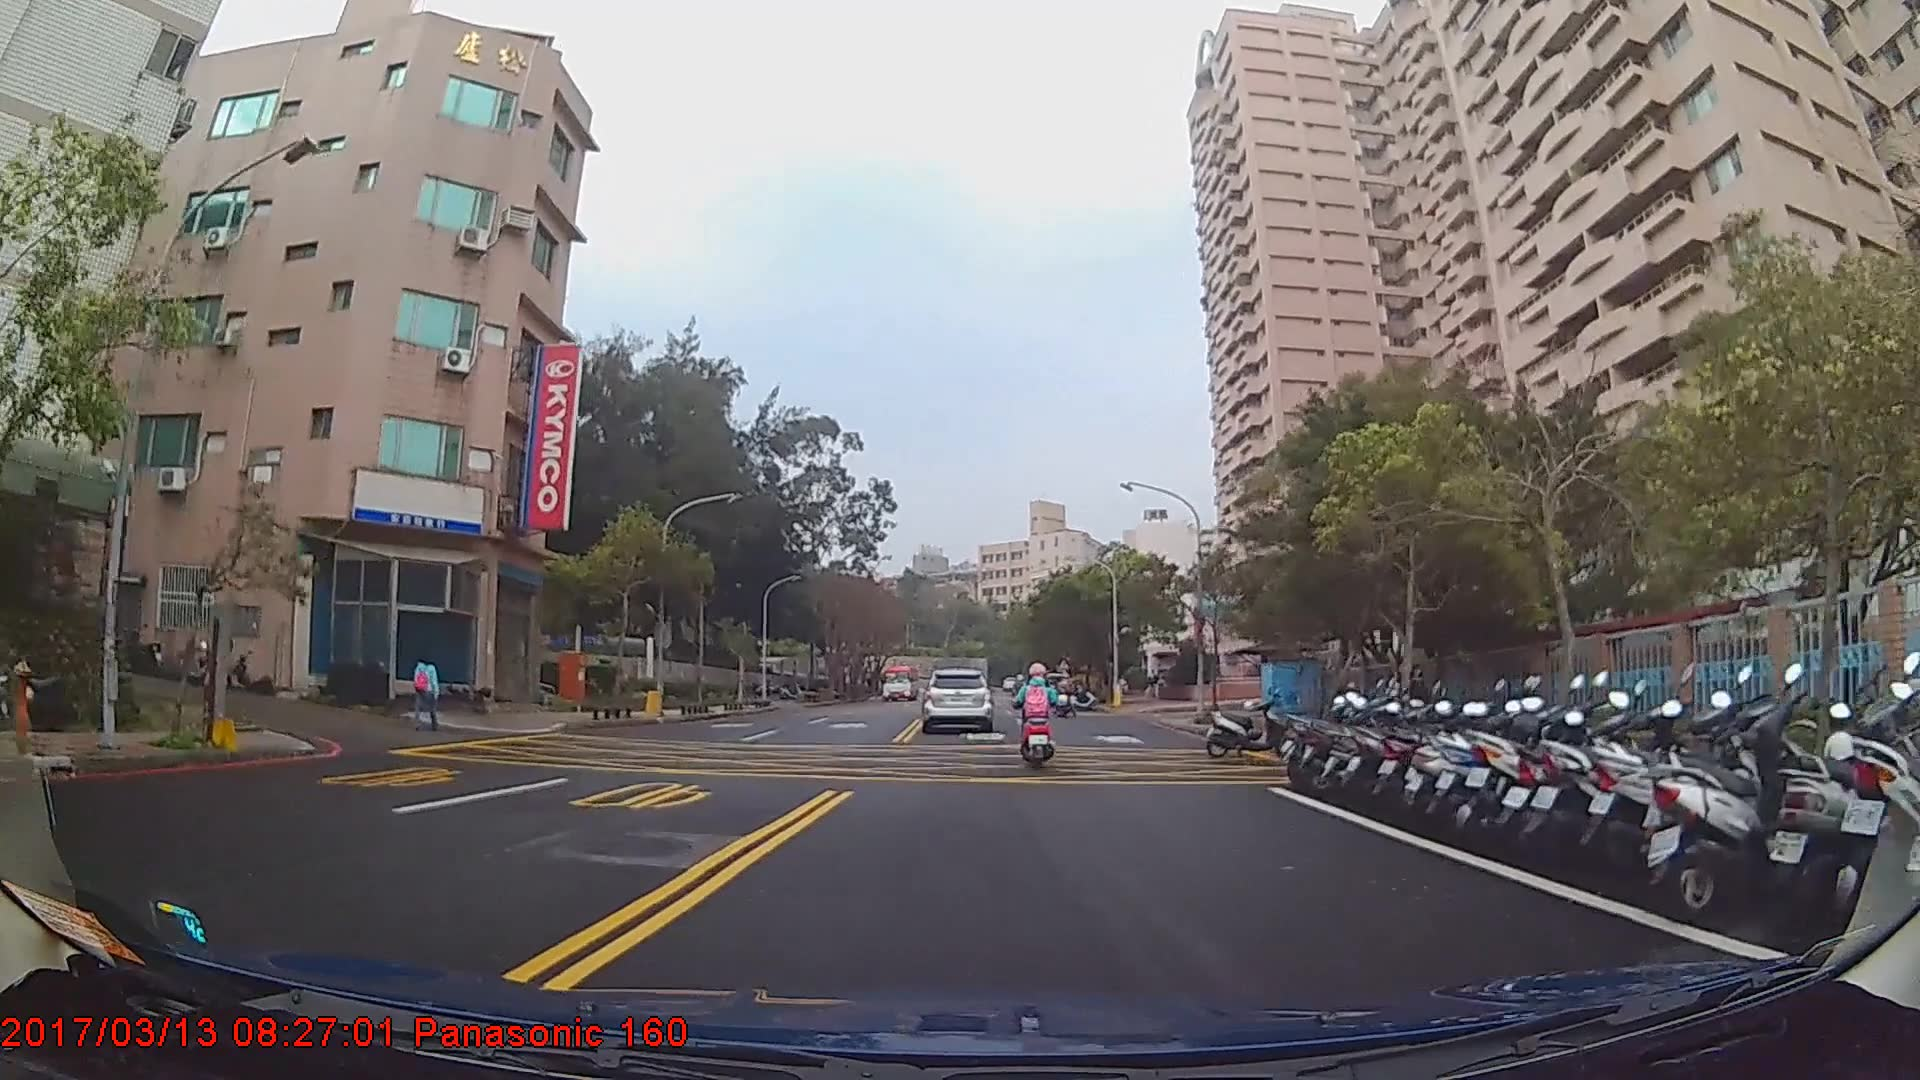pedestrian: (413, 646, 440, 733)
rider: (1013, 662, 1063, 776)
vehicle: (921, 666, 992, 732), (879, 662, 919, 700)
